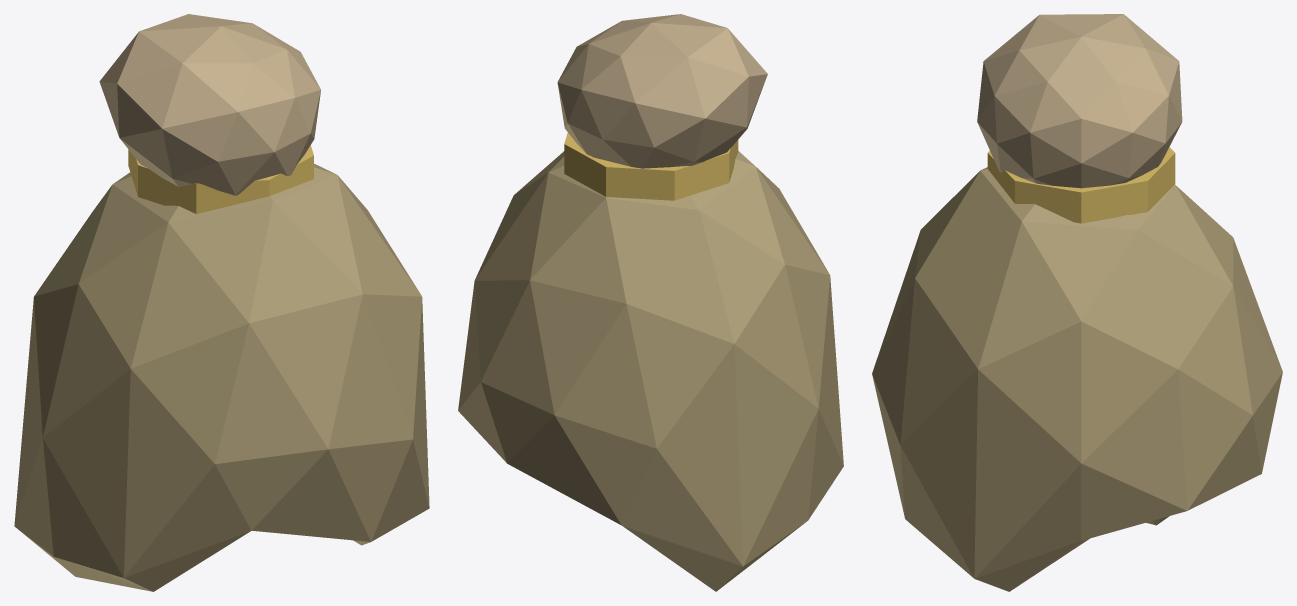
File: sack.glb
The picture shows the model from 3 angles, left to right: view 1: azimuth 30°, elevation 25°; view 2: azimuth 150°, elevation 25°; view 3: azimuth 270°, elevation 25°; orthographic projection. The views are drawn at different scales.
Parts seen in each view (by area): view 1: sack.001; view 2: sack.001; view 3: sack.001.
Part boxes in pixels (box(x1,y1,x2,y2)): sack.001: box(14, 14, 429, 591); sack.001: box(458, 14, 843, 591); sack.001: box(872, 14, 1282, 591).
Bounding box in the file's own units: 0.3681 × 0.54 × 0.3725.
